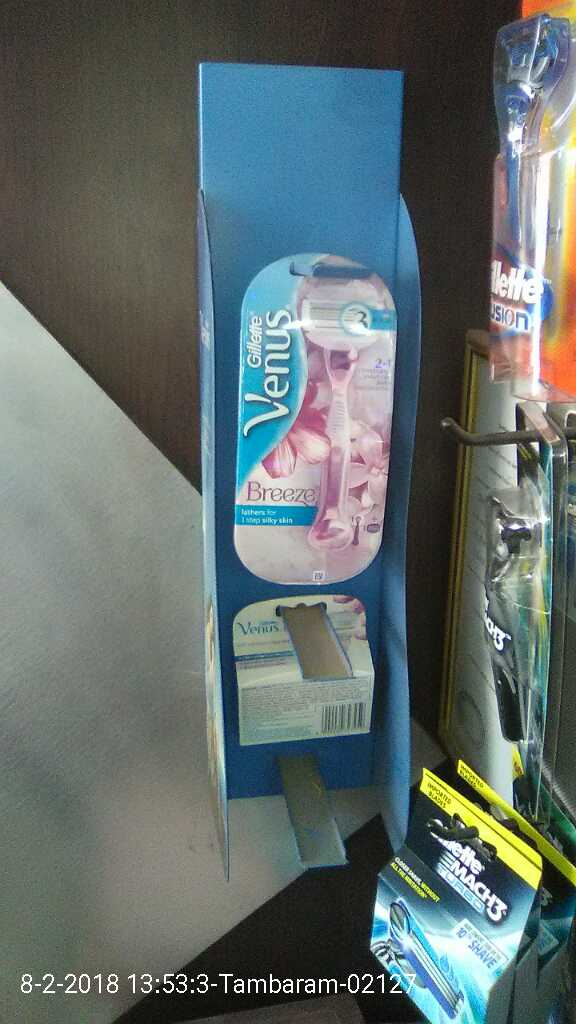beauty: (235, 257, 392, 588), (370, 767, 534, 1013), (482, 1, 576, 371)
